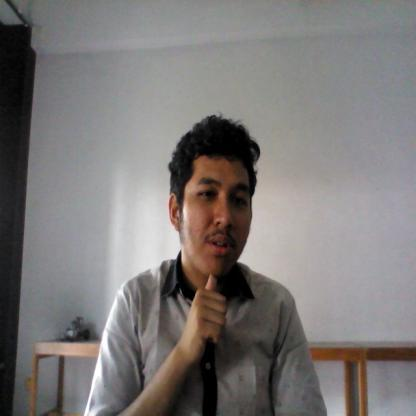Siapa: (184, 266, 228, 369)
